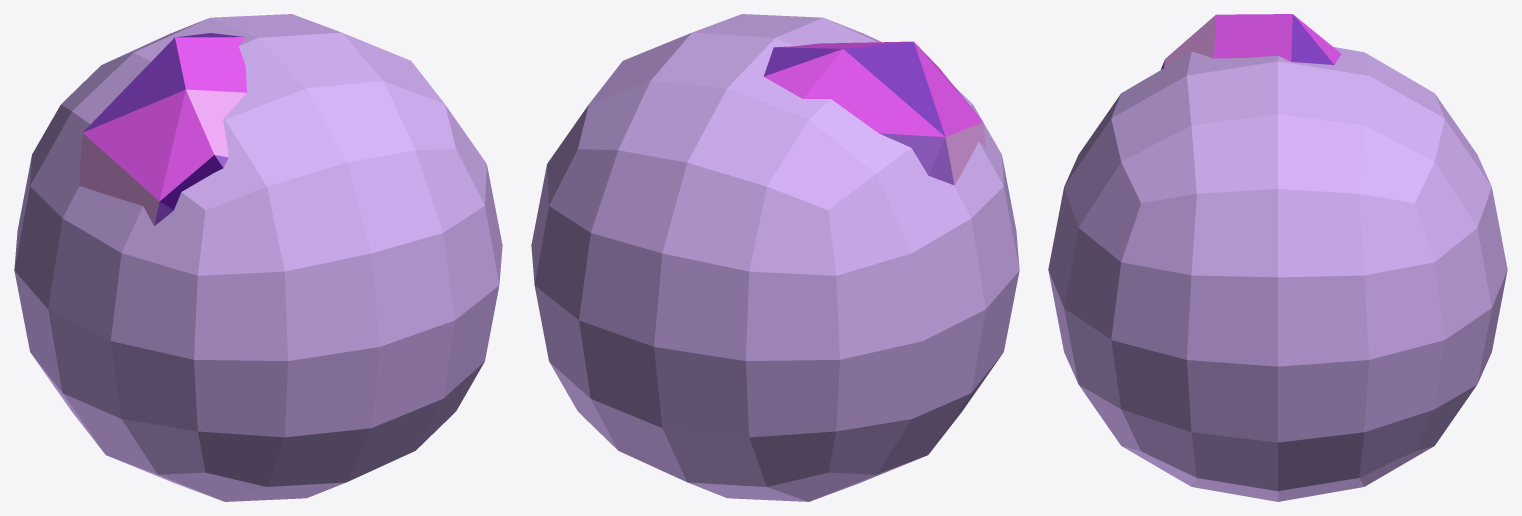
File: precious_gem_p01.fbx
3 renders of one model, left to right at view 1: azimuth 30°, elevation 25°; view 2: azimuth 150°, elevation 25°; view 3: azimuth 270°, elevation 25°, orthographic. The views are drawn at different scales.
Visible parts, largest first — view 1: Cube.001, Cube; view 2: Cube.001, Cube; view 3: Cube.001, Cube.
Part boxes in pixels (left/top/right/bottom): Cube.001: left=14, top=14, right=502, bottom=501; Cube: left=79, top=33, right=247, bottom=225; Cube.001: left=531, top=14, right=1019, bottom=501; Cube: left=763, top=41, right=986, bottom=185; Cube.001: left=1048, top=47, right=1507, bottom=501; Cube: left=1161, top=14, right=1341, bottom=69.
Size of the model in its own units: 1.68 by 1.68 by 1.73.
